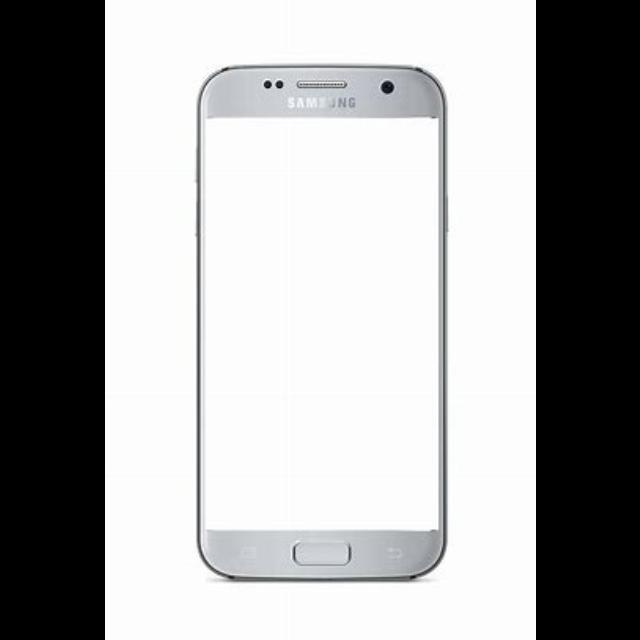Smartphone: (194, 61, 449, 588)
